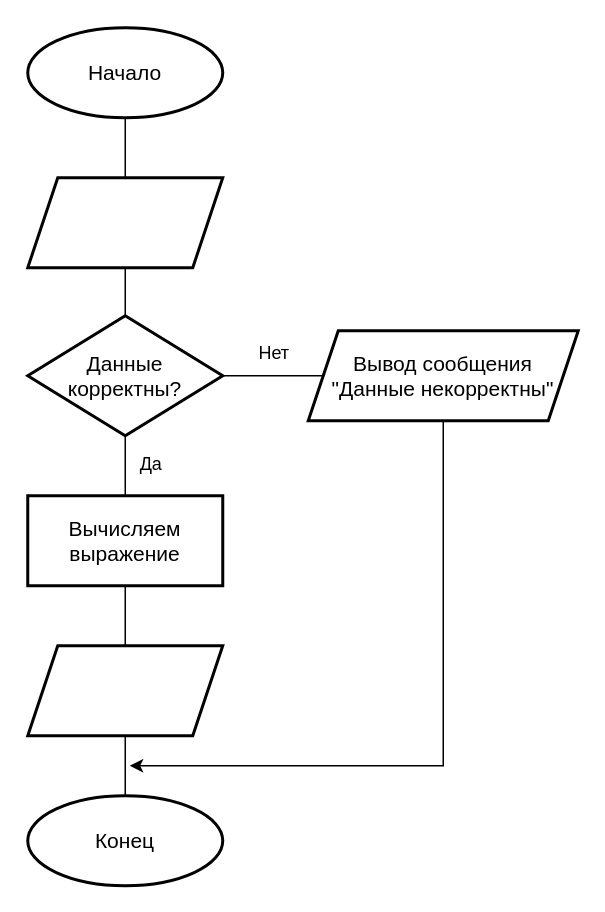
This 605x912 diagram has some shape labels left out. Here are the shapes that lost their labels. From the top down, the box of each, then its label:
(26, 176, 224, 268): Введите данные
(26, 644, 224, 736): Вывод результата вычисления
